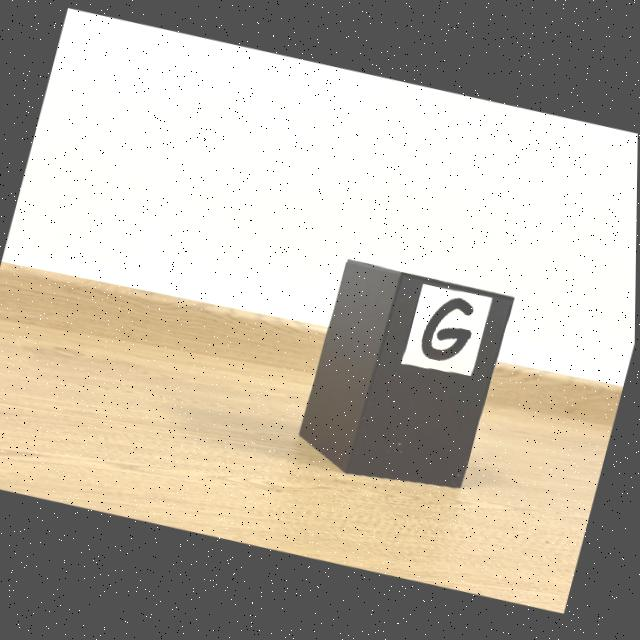G: (422, 301, 474, 363)
